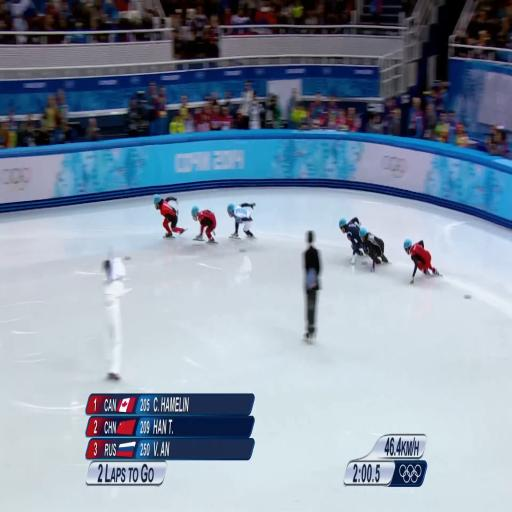Skater: (404, 239, 441, 284), (154, 195, 186, 237), (360, 228, 388, 272), (339, 218, 363, 265), (228, 203, 255, 238), (192, 206, 217, 243)
